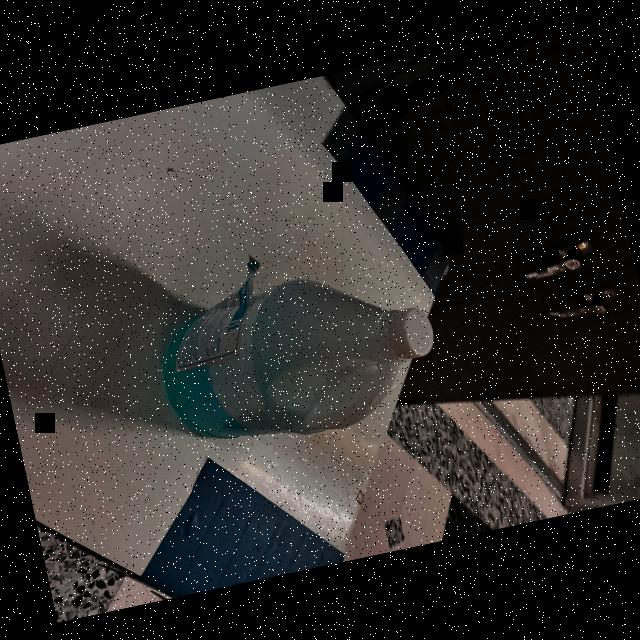chemical_plastic_gallon: (146, 248, 458, 464)
